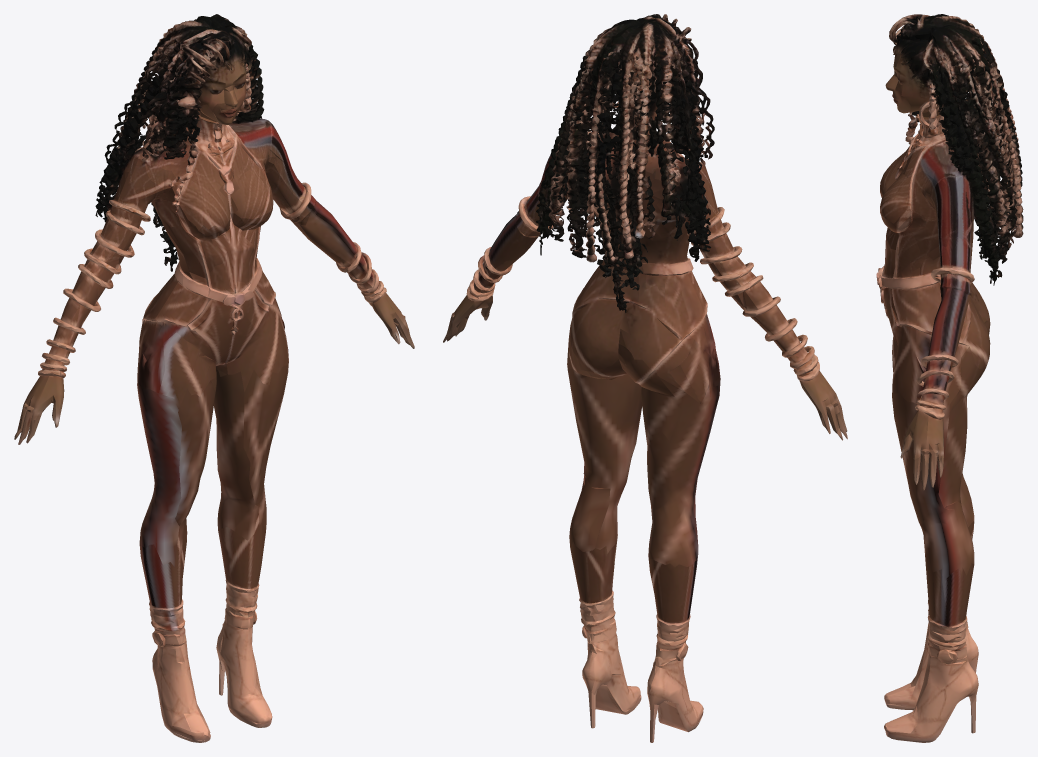
3 views of the same model, side by side, from view 1: azimuth 30°, elevation 25°; view 2: azimuth 150°, elevation 25°; view 3: azimuth 270°, elevation 25° (orthographic).
Visible parts, largest first — view 1: Mesh_0; view 2: Mesh_0; view 3: Mesh_0.
Boxes of the visible parts, <box> form: Mesh_0: <box>14,14,414,742</box>; Mesh_0: <box>443,14,847,742</box>; Mesh_0: <box>876,14,1023,742</box>.
Size of the model in its own units: 1.13 by 1.9 by 0.3621.
Materials: 1 (1 with a texture image).
